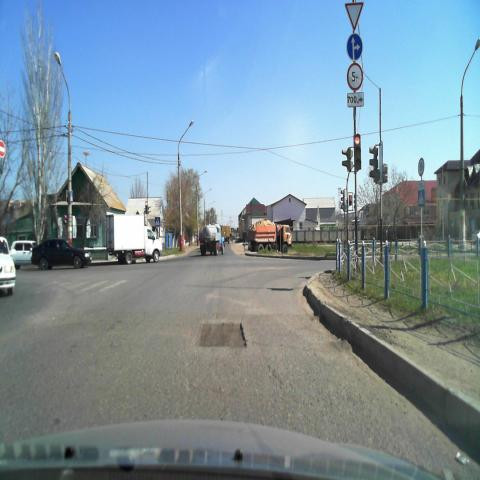3_1: (0, 140, 7, 160)
3_11: (346, 63, 364, 91), (417, 156, 425, 178)
4_1_4: (346, 33, 362, 63)
